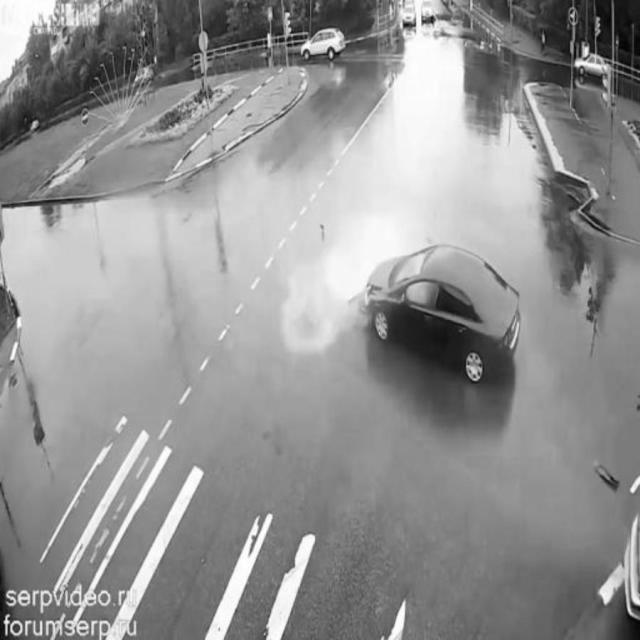vehicle: (357, 229, 525, 385), (574, 48, 615, 94), (298, 28, 345, 58), (401, 7, 418, 33), (421, 0, 435, 30)
